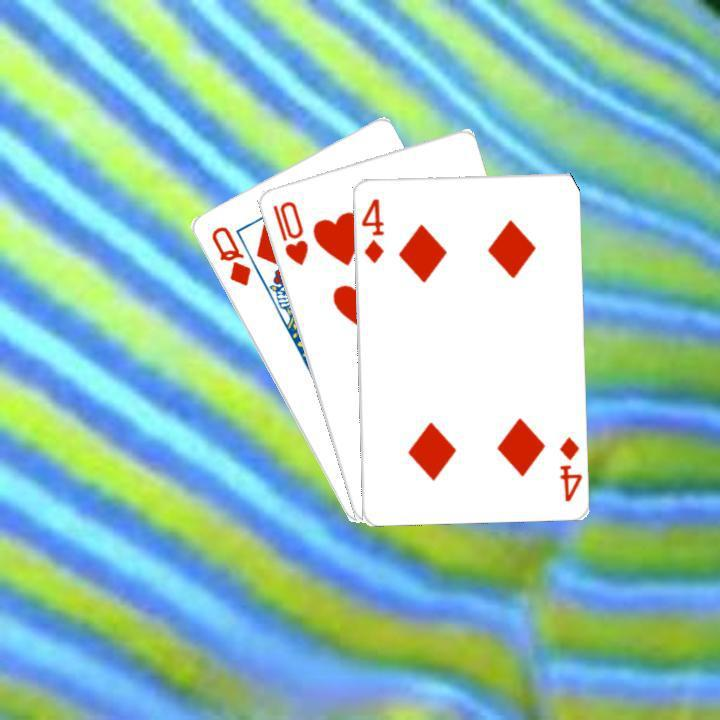10: (267, 196, 310, 267)
4: (357, 193, 385, 264), (554, 432, 582, 503)
Q: (206, 221, 253, 288)
